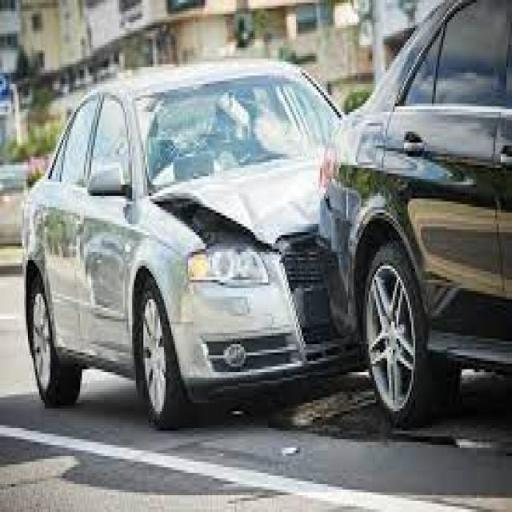小汽车撞小汽车: (22, 38, 508, 434)
